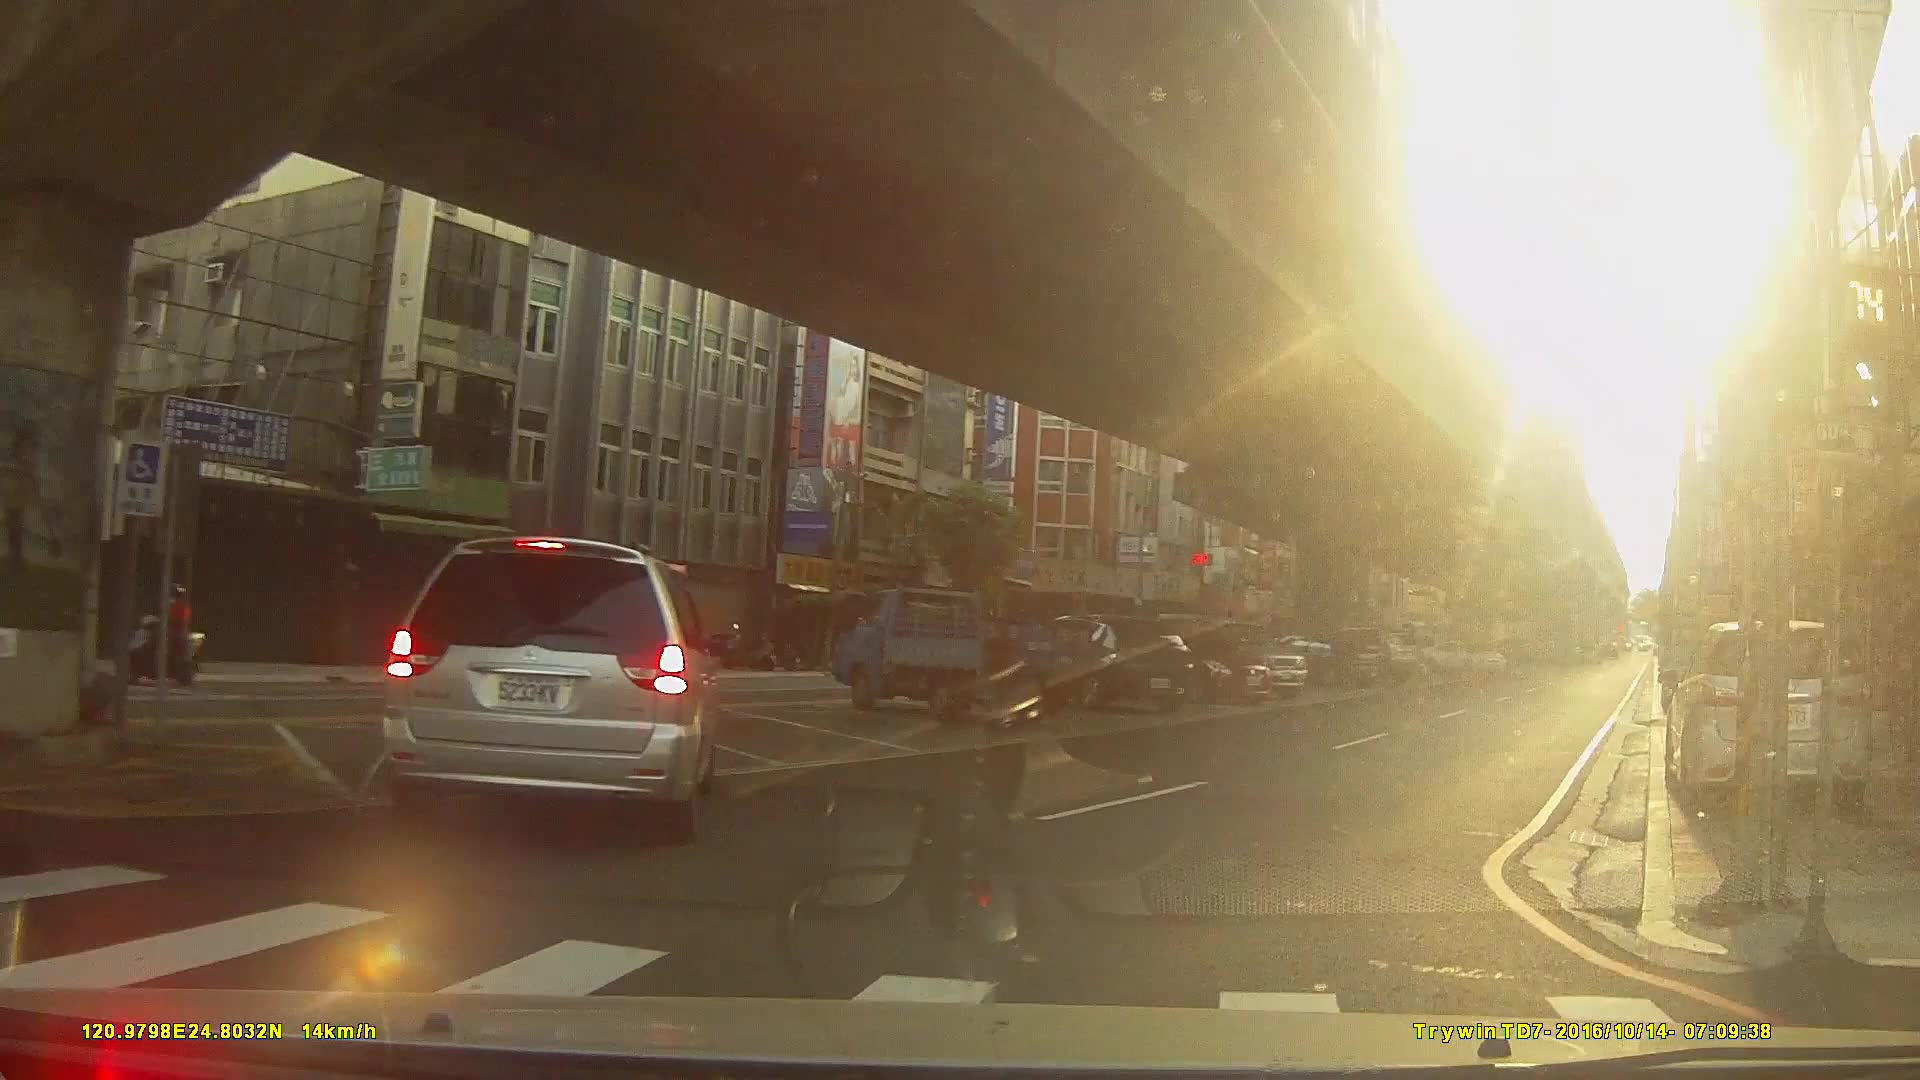rider: (112, 583, 206, 691)
vehicle: (381, 534, 720, 840), (1662, 619, 1874, 818), (829, 587, 1073, 724), (1014, 616, 1193, 718), (1107, 624, 1274, 707), (1245, 633, 1361, 687)
